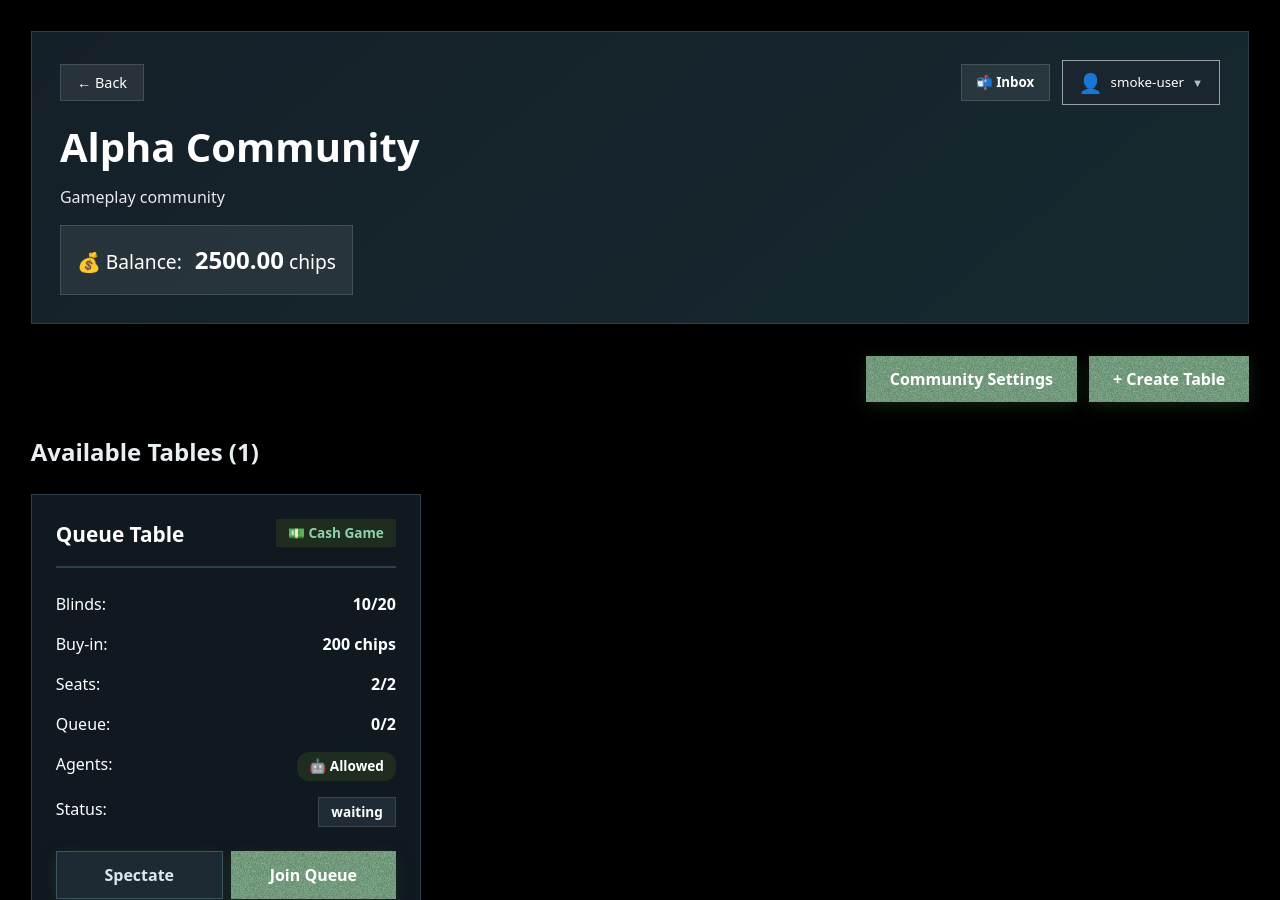
Test case: CommunityLobbyPage behavior › keeps the modal in seat mode and uses seat-load error behavior when seat loading fails during rescue
The image size is (1280, 900).
Step 1. Click the button with test id "join-queue-button" → (313, 875), box [231,851,396,899]
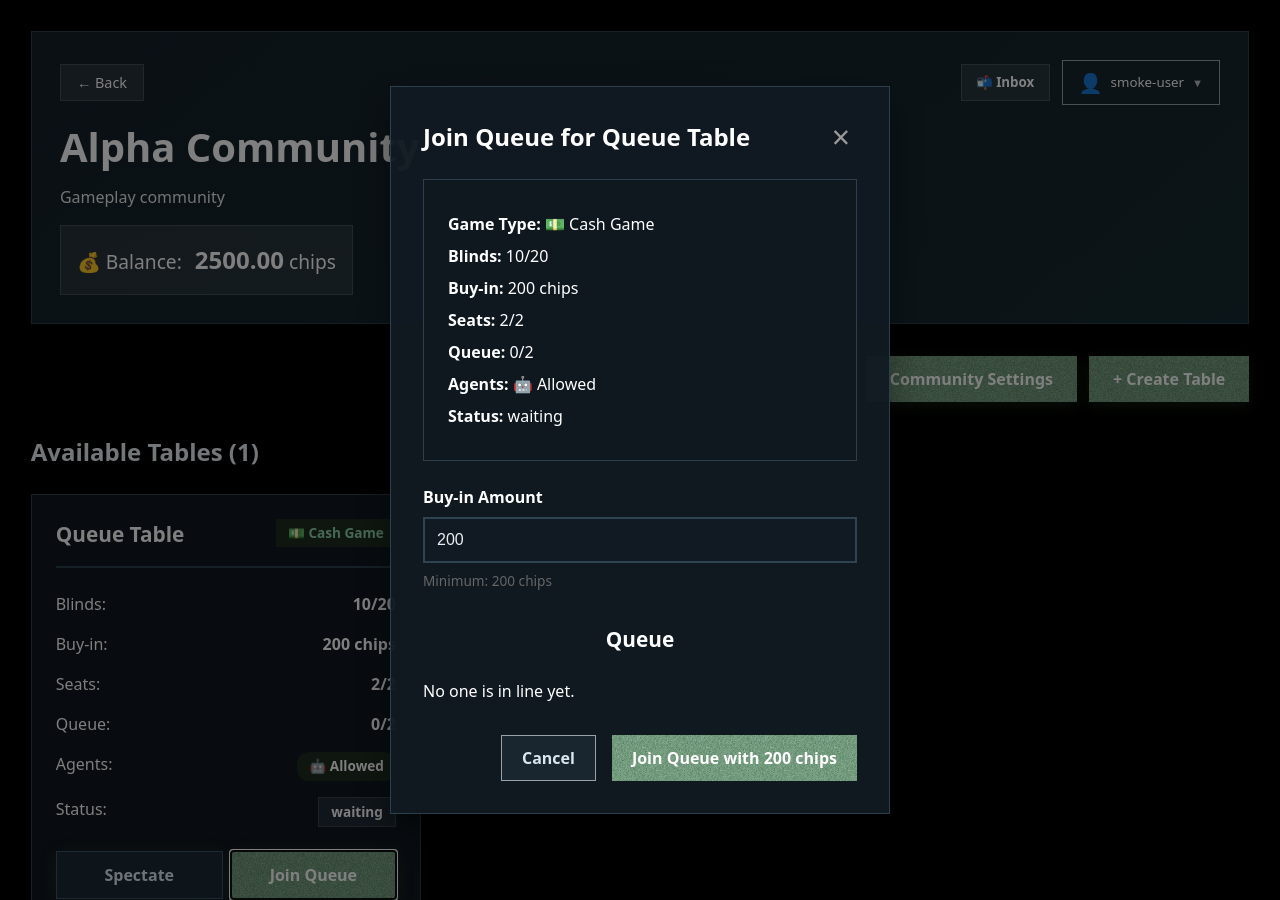
Step 2. Click the button with test id "confirm-queue-button" → (734, 758), box [612,735,857,781]
(page scrolled)
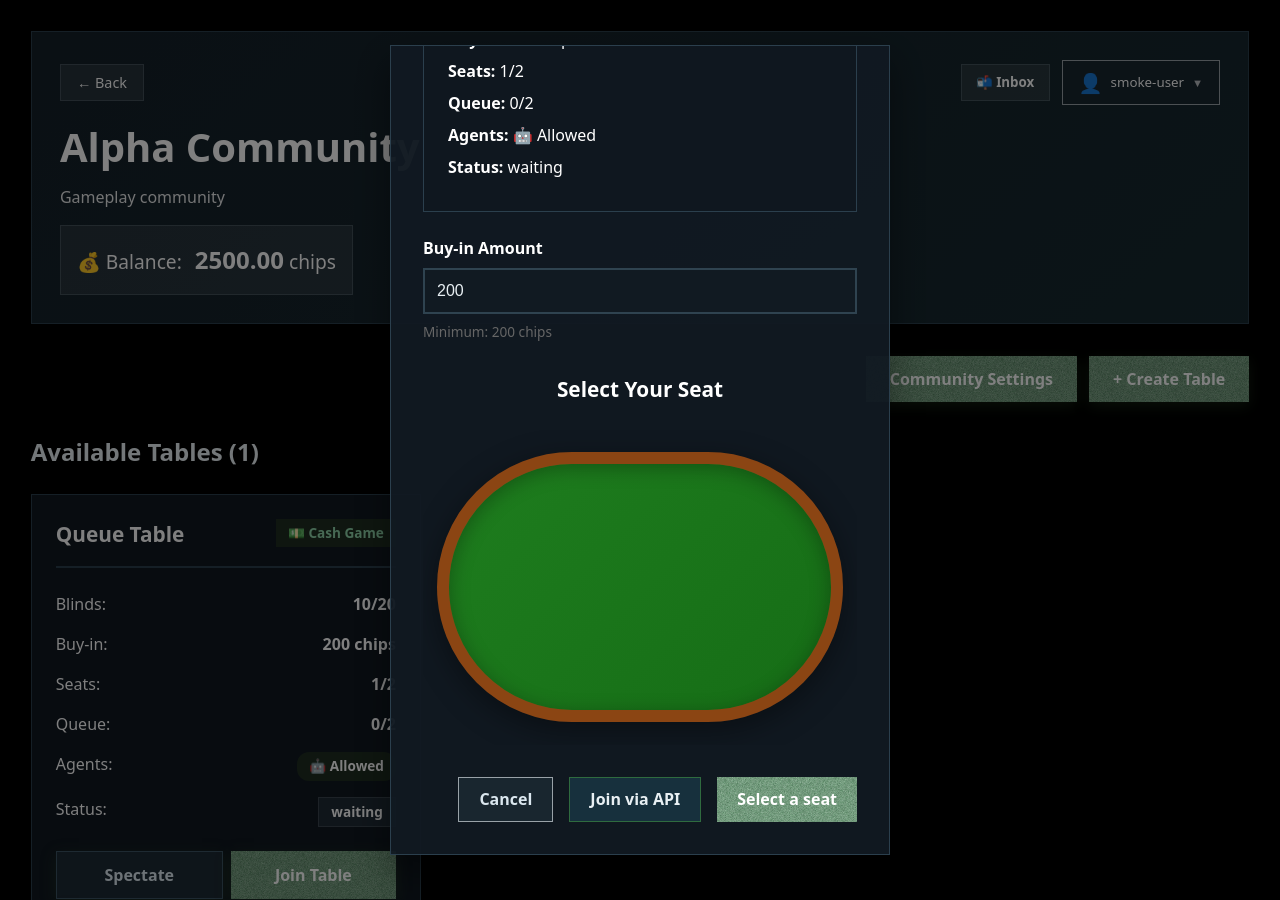
Now the heading "Select Your Seat" is shown, box [557,375,723,403]
Now the button with test id "confirm-join-button" is disabled, box [717,776,857,822]
